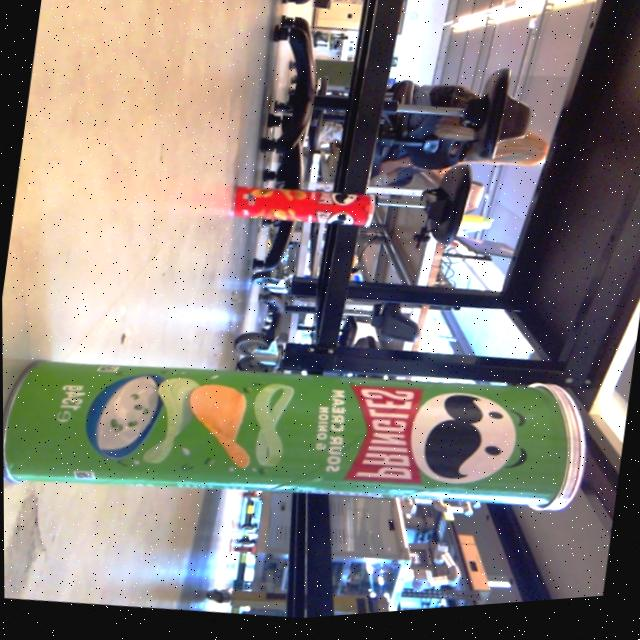greenpringles: (2, 303, 598, 576)
redpringles: (222, 161, 389, 255)
